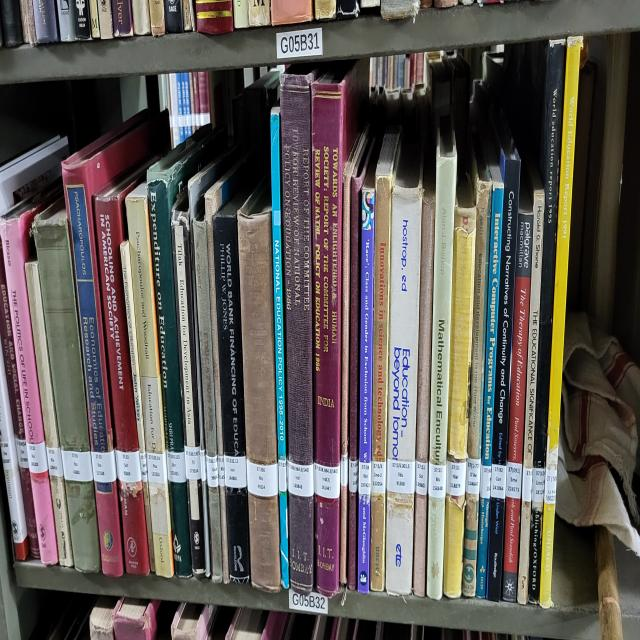Book: (62, 114, 164, 576), (148, 127, 228, 576), (311, 65, 364, 595), (32, 200, 100, 571), (539, 38, 581, 609), (0, 184, 61, 565), (94, 165, 150, 574), (529, 43, 565, 603), (280, 65, 318, 593), (125, 184, 174, 576), (238, 179, 281, 590), (385, 143, 422, 593), (486, 114, 520, 601), (25, 260, 74, 565), (171, 195, 210, 574), (426, 111, 456, 601), (370, 127, 401, 593), (442, 179, 476, 598), (340, 124, 369, 584), (462, 138, 491, 598), (502, 187, 534, 603), (476, 141, 504, 598), (0, 241, 40, 560), (348, 141, 374, 590), (120, 241, 155, 571), (192, 216, 222, 582), (214, 187, 251, 473), (412, 149, 435, 595), (270, 106, 289, 587), (358, 165, 375, 593), (358, 168, 375, 593), (226, 476, 249, 582)
Label: (246, 460, 279, 498), (61, 449, 94, 482), (386, 460, 415, 495), (288, 460, 314, 498), (314, 463, 340, 498), (91, 449, 116, 484), (115, 449, 141, 482), (224, 455, 248, 487), (26, 441, 48, 473), (146, 452, 168, 484), (446, 460, 466, 495), (490, 463, 506, 501), (506, 463, 522, 501), (166, 452, 186, 482), (429, 463, 446, 498), (466, 457, 481, 495), (46, 446, 64, 476), (185, 446, 201, 479), (371, 460, 386, 495), (415, 460, 429, 495), (531, 468, 545, 503), (544, 468, 558, 503), (15, 436, 29, 468), (480, 463, 491, 501), (521, 465, 532, 503), (206, 455, 219, 487), (359, 463, 371, 495), (349, 460, 359, 492), (340, 455, 349, 487), (279, 457, 286, 492), (218, 455, 225, 487), (200, 449, 206, 482)
